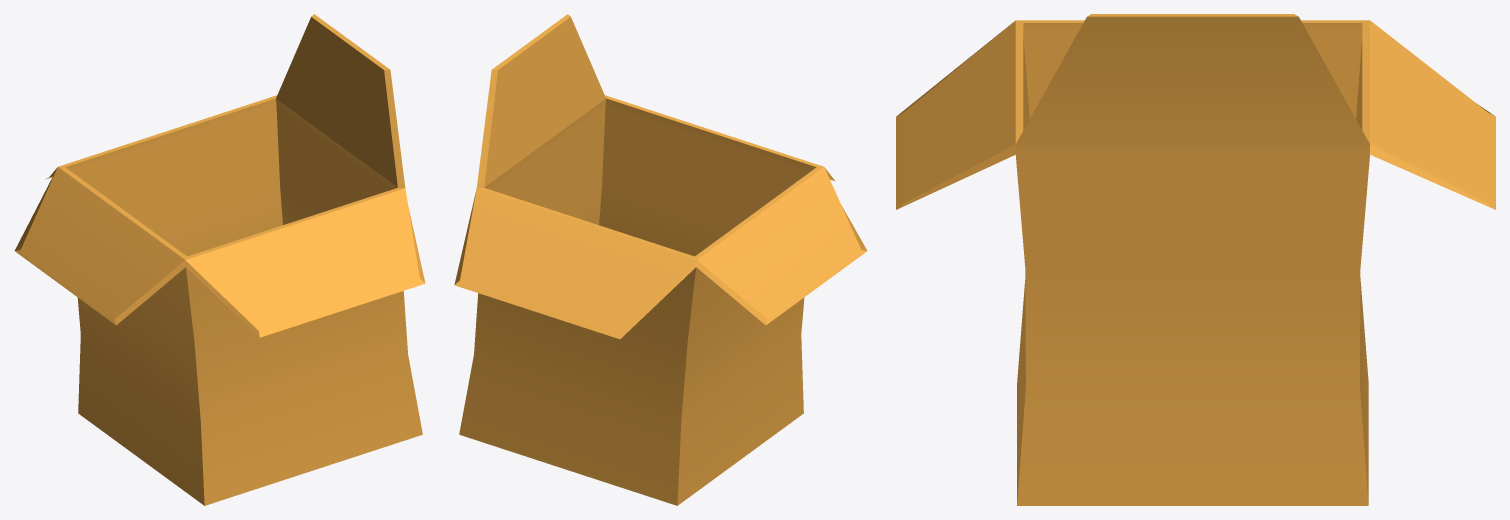
The model's file is boxEmpty.fbx.
The picture shows the model from 3 angles, left to right: view 1: azimuth 30°, elevation 25°; view 2: azimuth 150°, elevation 25°; view 3: azimuth 270°, elevation 25°; orthographic projection. The views are drawn at different scales.
Parts seen in each view (by area): view 1: Cube.001; view 2: Cube.001; view 3: Cube.001.
Boxes of the visible parts, <box> form: Cube.001: <box>14,14,425,505</box>; Cube.001: <box>454,14,867,505</box>; Cube.001: <box>896,14,1495,505</box>.
Size of the model in its own units: 3.07 by 3.65 by 3.89.
